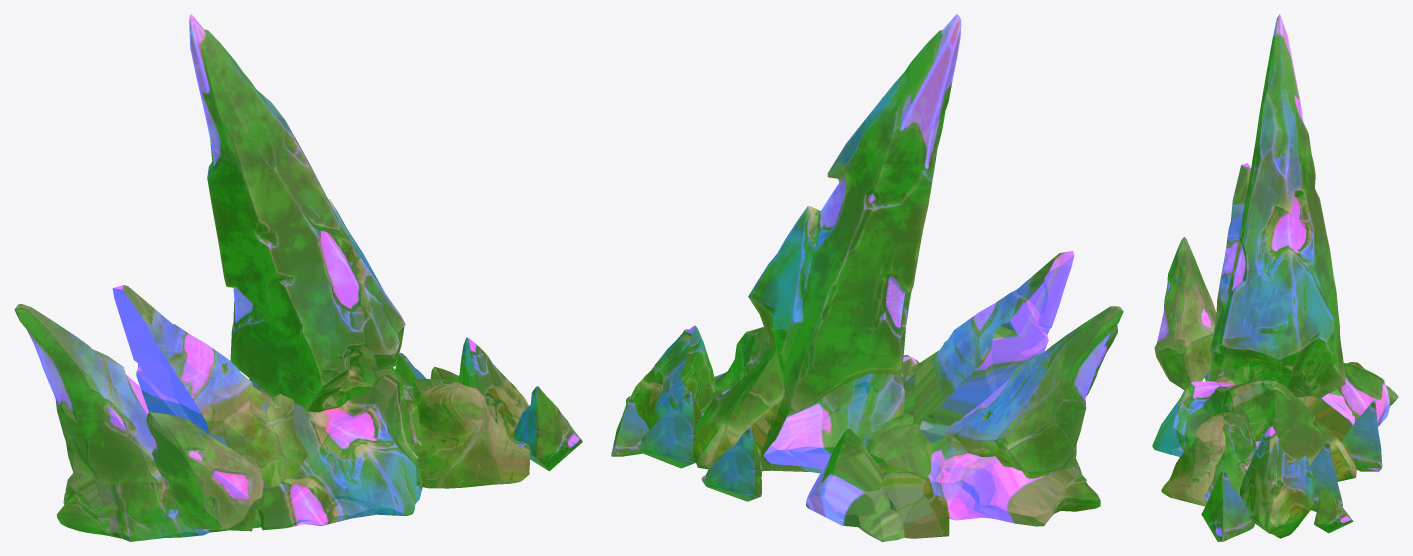
Rendered from MolochMagicA.fbx.
3 renders of one model, left to right at view 1: azimuth 30°, elevation 25°; view 2: azimuth 150°, elevation 25°; view 3: azimuth 270°, elevation 25°, orthographic. The views are drawn at different scales.
Parts seen in each view (by area): view 1: Dn_HL_TremorCrystal_A.mo; view 2: Dn_HL_TremorCrystal_A.mo; view 3: Dn_HL_TremorCrystal_A.mo.
Part boxes in pixels (x1=…): Dn_HL_TremorCrystal_A.mo: x1=14, y1=14, x2=582, y2=541; Dn_HL_TremorCrystal_A.mo: x1=611, y1=14, x2=1123, y2=541; Dn_HL_TremorCrystal_A.mo: x1=1152, y1=14, x2=1398, y2=541.
Bounding box in the file's own units: 899 × 843 × 456.
